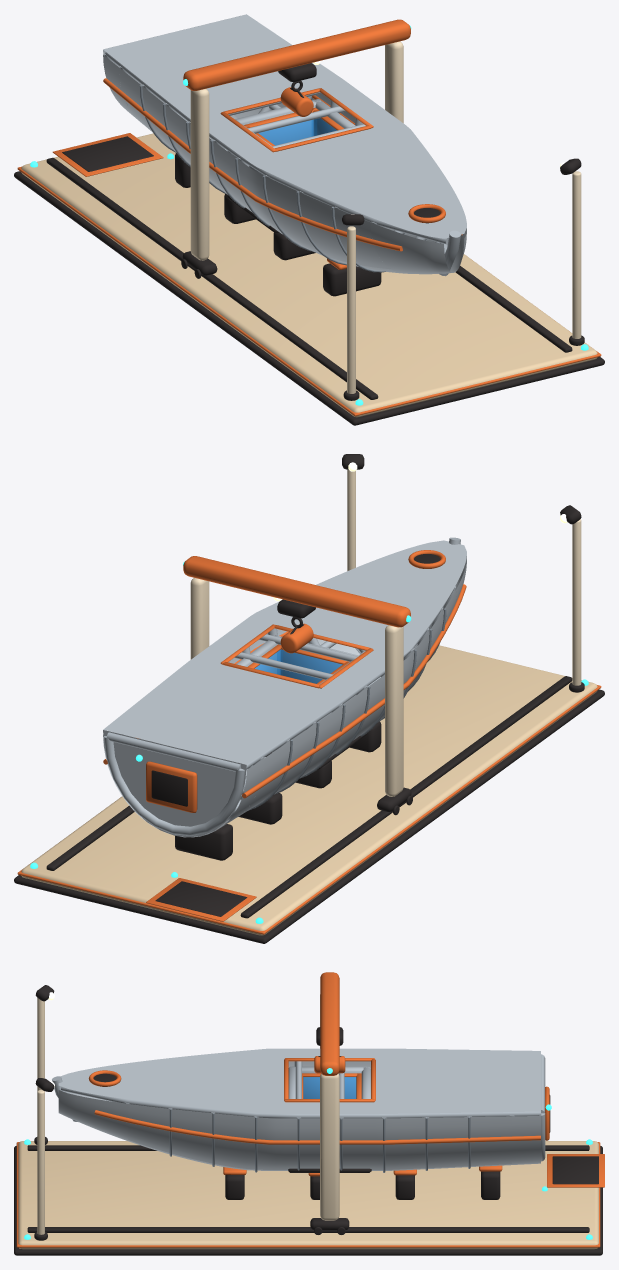
Rendered from reactor-2.glb.
3 renders of one model, top to bottom at view 1: azimuth 30°, elevation 25°; view 2: azimuth 150°, elevation 25°; view 3: azimuth 270°, elevation 25°, orthographic. The views are drawn at different scales.
Parts seen in each view (by area): view 1: Cube.001, skin, Cube, Cube.002, Cube.036, Cube.023, pipe.030, Cube.027; view 2: Cube.001, skin, Cube, Cube.002, Cube.023, Cube.036, pipe.030, Cube.027; view 3: Cube.001, skin, Cube, Cube.002, Cube.036, Cube.023, pipe.030, Cube.027.
Boxes of the visible parts, x1,y1,x2,y2 form: Cube.001: (21,133,597,417); skin: (103,14,466,274); Cube: (14,63,604,425); Cube.002: (17,19,601,416); Cube.036: (190,41,581,393); Cube.023: (104,52,460,276); pipe.030: (139,85,427,272); Cube.027: (258,118,336,145); Cube.001: (21,645,597,935); skin: (103,540,466,837); Cube: (14,454,604,943); Cube.002: (17,550,601,934); Cube.023: (104,537,460,835); Cube.036: (190,469,581,796); pipe.030: (234,608,446,810); Cube.027: (254,649,342,683); Cube.001: (18,1141,598,1249); skin: (58,1048,540,1170); Cube: (14,985,602,1255); Cube.002: (16,972,604,1247); Cube.036: (37,994,339,1234); Cube.023: (52,1054,545,1161); pipe.030: (169,1108,470,1172); Cube.027: (303,1077,356,1098).
Bounding box in the file's own units: 1.3 × 1.06 × 3.05.
